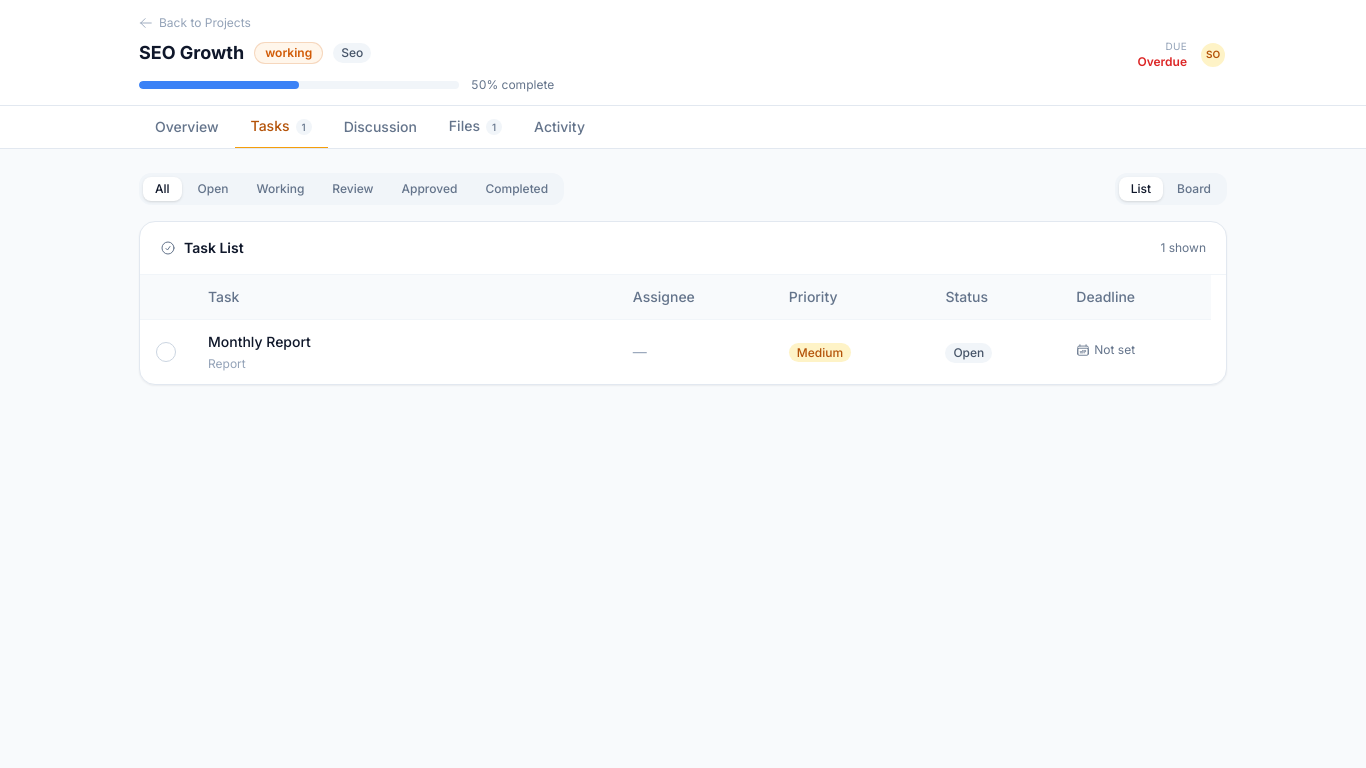
Test: ProjectDetailPage › customer detail is read-only and does not show internal notes
The image size is (1366, 768).
Expected: the heading "SEO Growth" is shown, [139,39,244,67]
# Switch to Overview tab — start date and deadline live there
Click the button "Overview" at (187, 128), box [139,106,234,149]
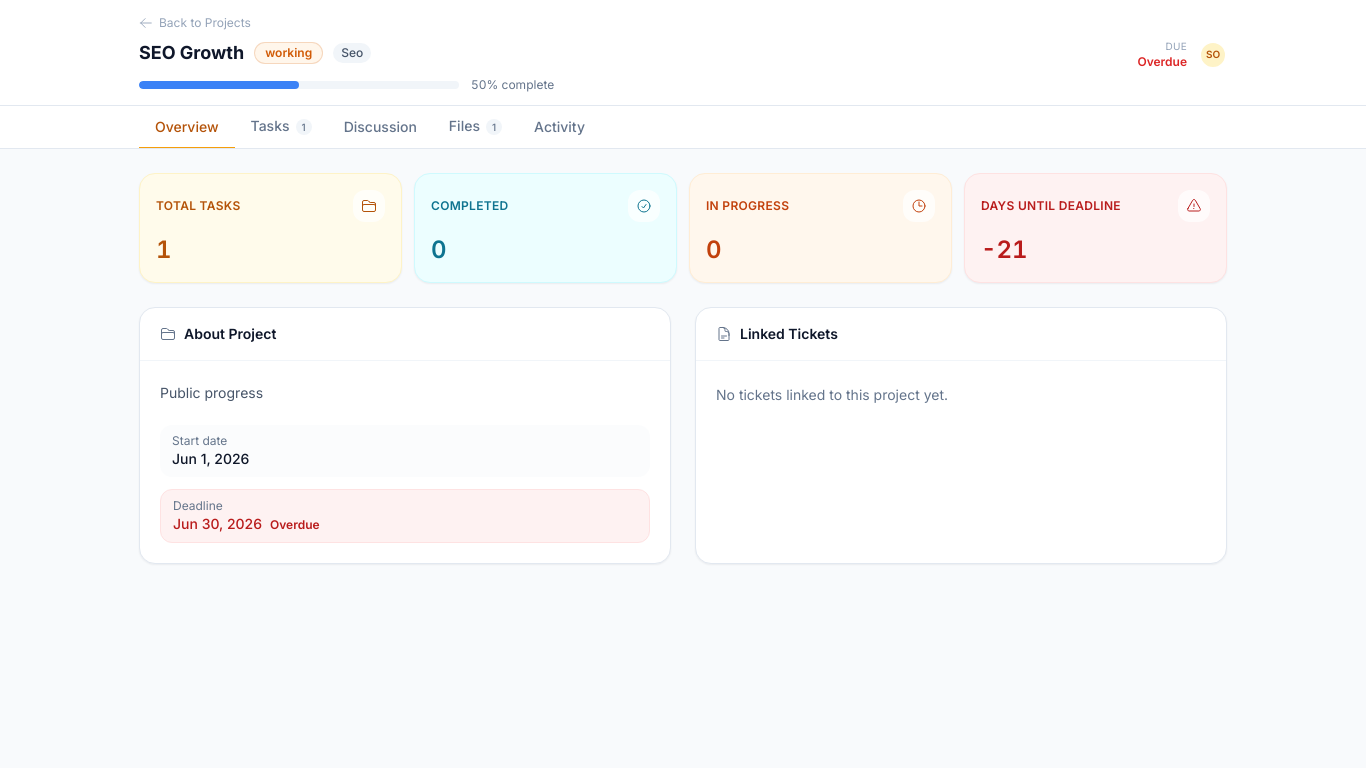
Result: the text "Start date" is shown at [172,433,227,448]
Result: the text "Deadline" is shown at [173,498,223,513]
# Switch to Files tab — customer can see files but not upload
Click the button "Files1" at (476, 128), box [433,106,518,149]
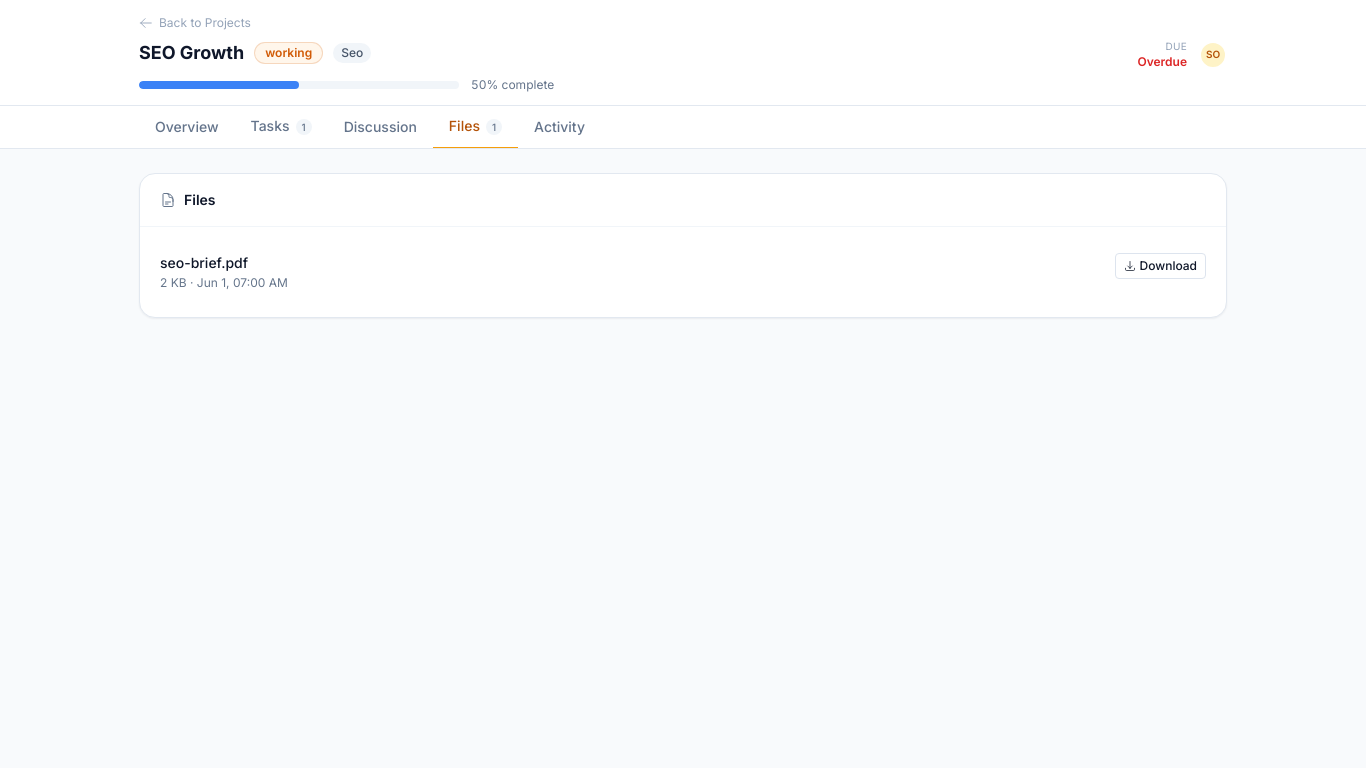
Result: the text "seo-brief.pdf" is shown at [160,254,248,271]
